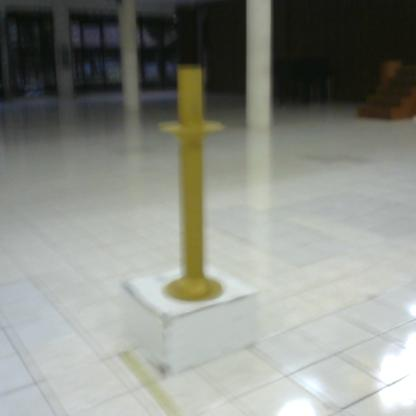pole: (150, 56, 238, 305)
